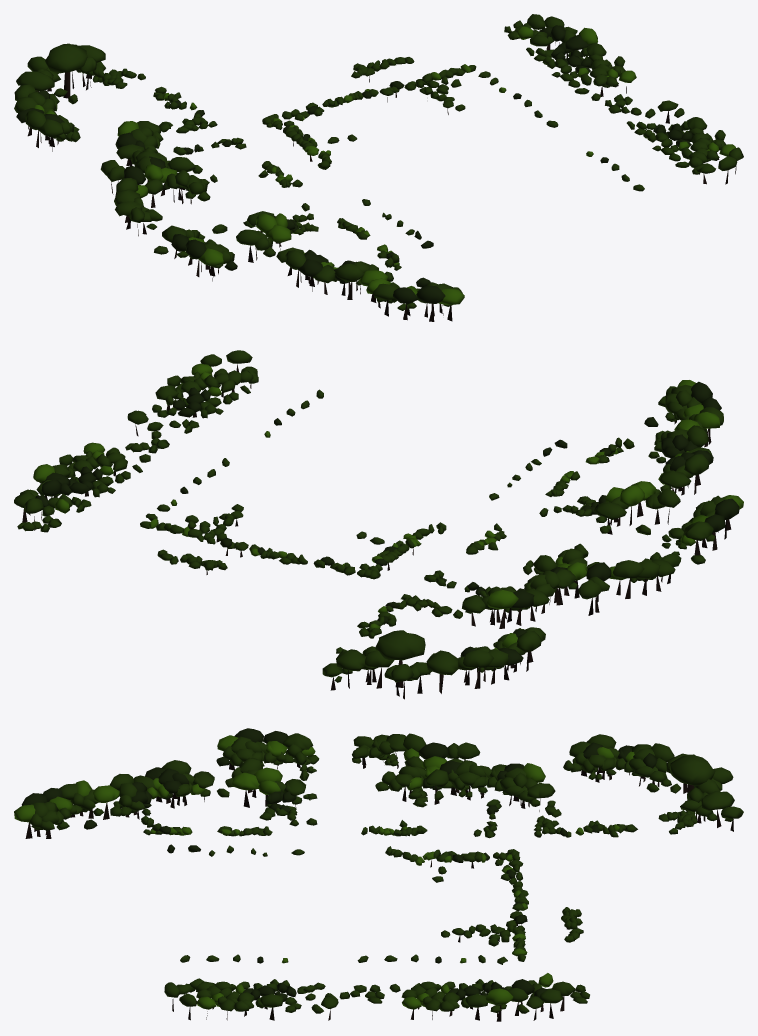
Rendered from trees.FBX.
The picture shows the model from 3 angles, top to bottom: view 1: azimuth 30°, elevation 25°; view 2: azimuth 150°, elevation 25°; view 3: azimuth 270°, elevation 25°; orthographic projection. The views are drawn at different scales.
Parts seen in each view (by area): view 1: Object022; view 2: Object022; view 3: Object022.
Boxes of the visible parts, x1,y1,x2,y2 form: Object022: (14, 14, 743, 321); Object022: (14, 350, 743, 699); Object022: (14, 728, 743, 1021).
Bounding box in the file's own units: 34110 × 3126 × 39088.
